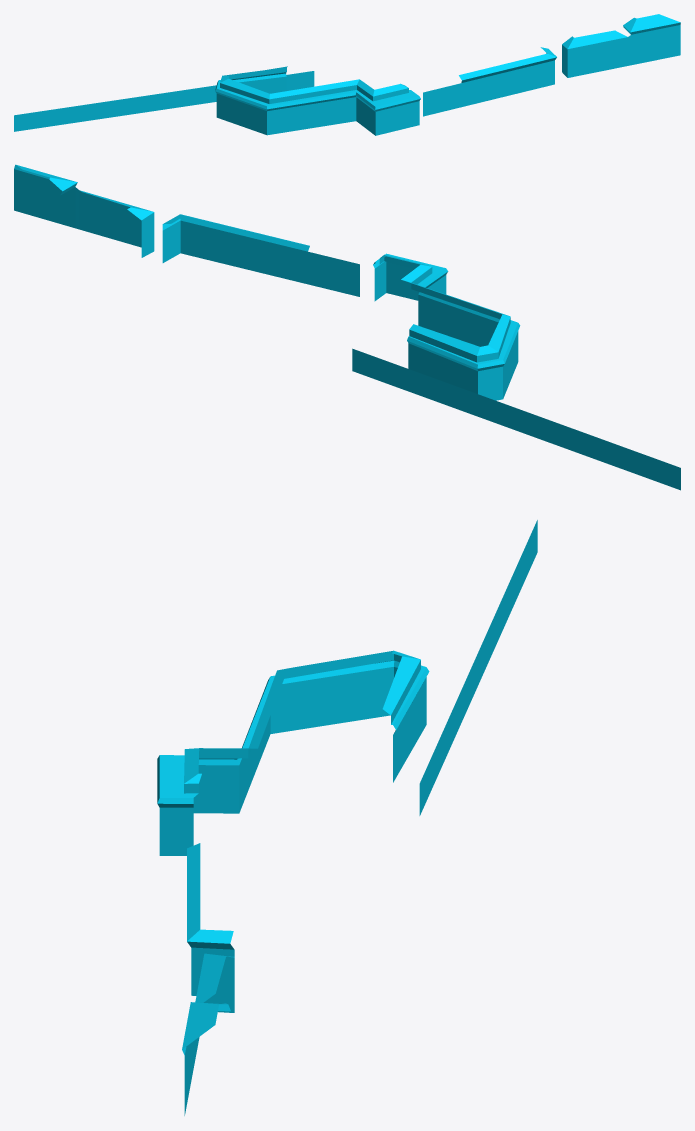
Rendered from city2.FBX.
3 views of the same model, one above another, from view 1: azimuth 30°, elevation 25°; view 2: azimuth 150°, elevation 25°; view 3: azimuth 270°, elevation 25° (orthographic). The views are drawn at different scales.
Visible parts, largest first — view 1: Object086; view 2: Object086; view 3: Object086.
Part boxes in pixels (left/top/right/bottom): Object086: left=14, top=14, right=680, bottom=135; Object086: left=14, top=164, right=680, bottom=490; Object086: left=157, top=520, right=537, bottom=1115.
Size of the model in its own units: 39484 by 2551 by 11243.
